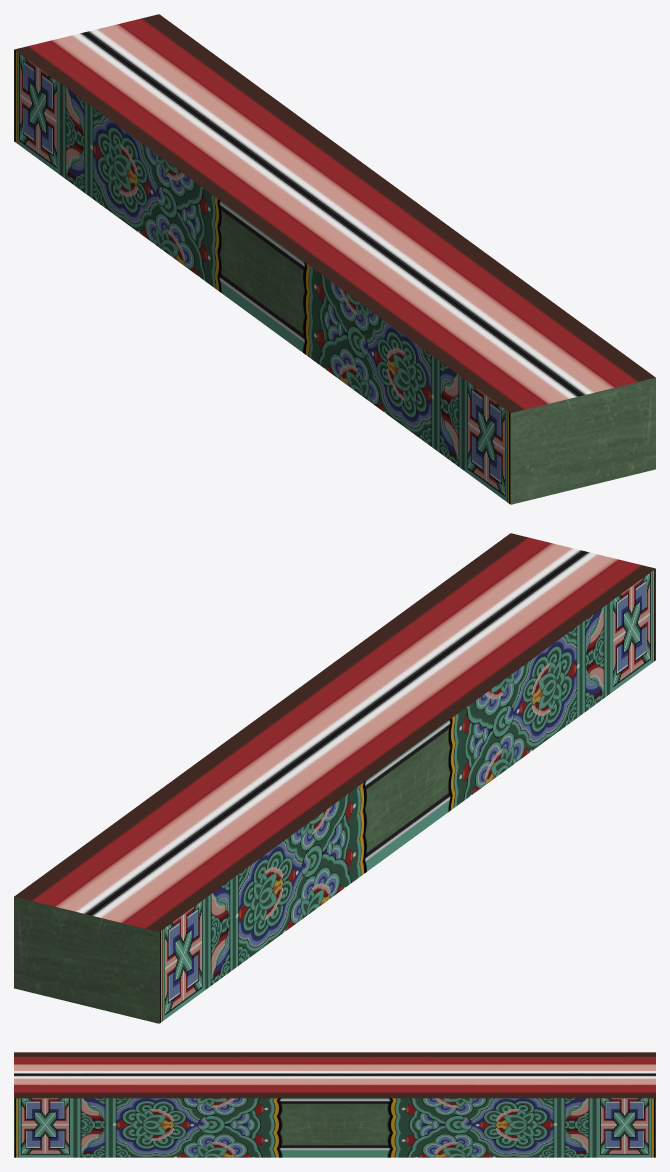
Rendered from SM_ChangBang05D.fbx.
3 renders of one model, top to bottom at view 1: azimuth 30°, elevation 25°; view 2: azimuth 150°, elevation 25°; view 3: azimuth 270°, elevation 25°, orthographic. The views are drawn at different scales.
Parts seen in each view (by area): view 1: SM_ChangBang05D; view 2: SM_ChangBang05D; view 3: SM_ChangBang05D.
Part boxes in pixels (x1,y1,x2,y2): SM_ChangBang05D: (14,14,655,504); SM_ChangBang05D: (14,533,655,1023); SM_ChangBang05D: (14,1052,655,1157).
Bounding box in the file's own units: 47.3 × 280 × 28.52.
1 material, 1 textured.
